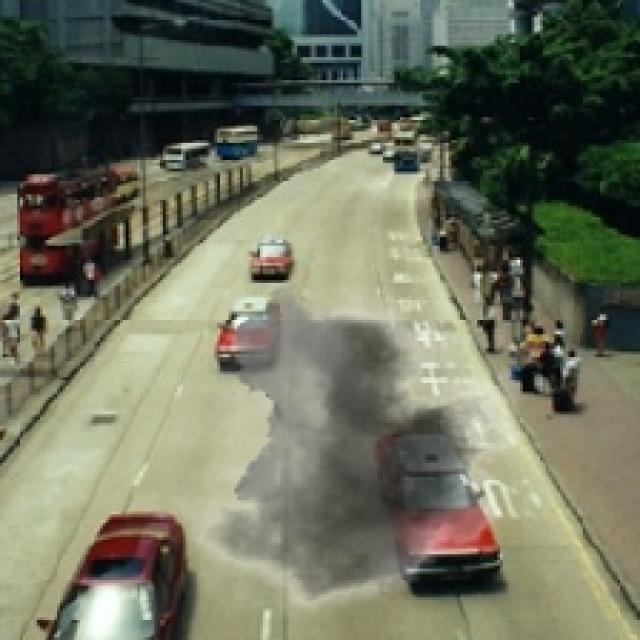Smoke: (123, 283, 543, 632)
